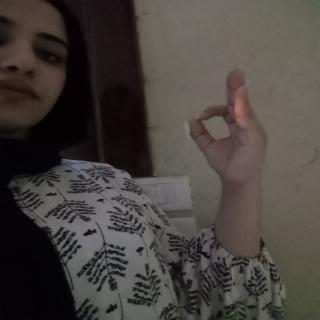Space: (185, 61, 275, 186)
